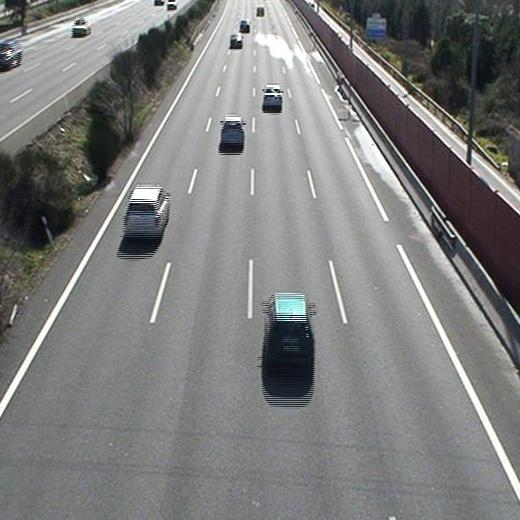car: (265, 295, 314, 364), (122, 183, 172, 240), (220, 115, 244, 146), (263, 84, 283, 111), (229, 33, 243, 48), (238, 18, 250, 33)
